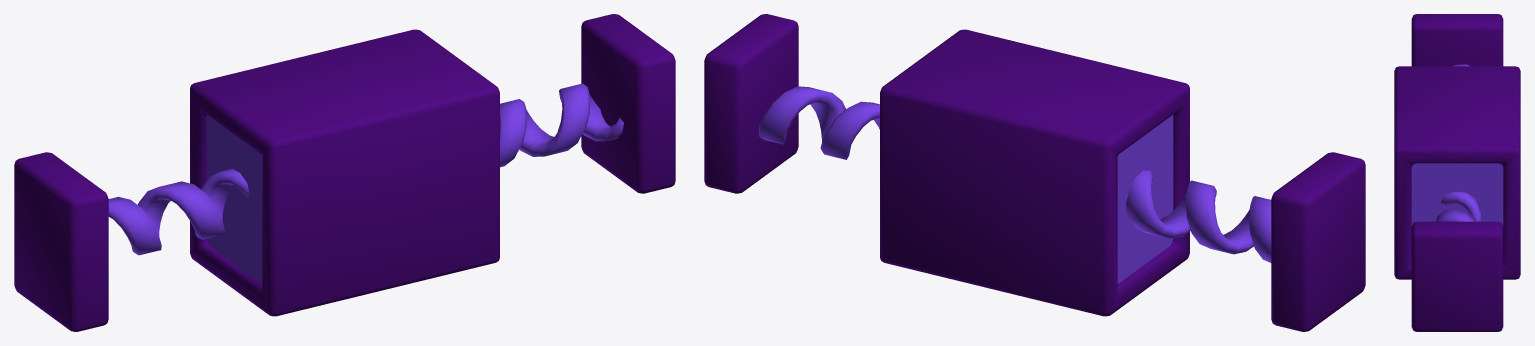
Rendered from spring_violet.fbx.
The picture shows the model from 3 angles, left to right: view 1: azimuth 30°, elevation 25°; view 2: azimuth 150°, elevation 25°; view 3: azimuth 270°, elevation 25°; orthographic projection. The views are drawn at different scales.
Parts seen in each view (by area): view 1: spring_violet_main, spring_violet_serve; view 2: spring_violet_main, spring_violet_serve; view 3: spring_violet_main, spring_violet_serve.
Part boxes in pixels (x1=…): spring_violet_main: x1=190, y1=29, x2=499, y2=316; spring_violet_serve: x1=14, y1=14, x2=675, y2=331; spring_violet_main: x1=880, y1=29, x2=1189, y2=316; spring_violet_serve: x1=704, y1=14, x2=1365, y2=331; spring_violet_main: x1=1394, y1=66, x2=1520, y2=279; spring_violet_serve: x1=1411, y1=14, x2=1503, y2=331.
Bounding box in the file's own units: 0.8403 × 0.2341 × 0.2024.
